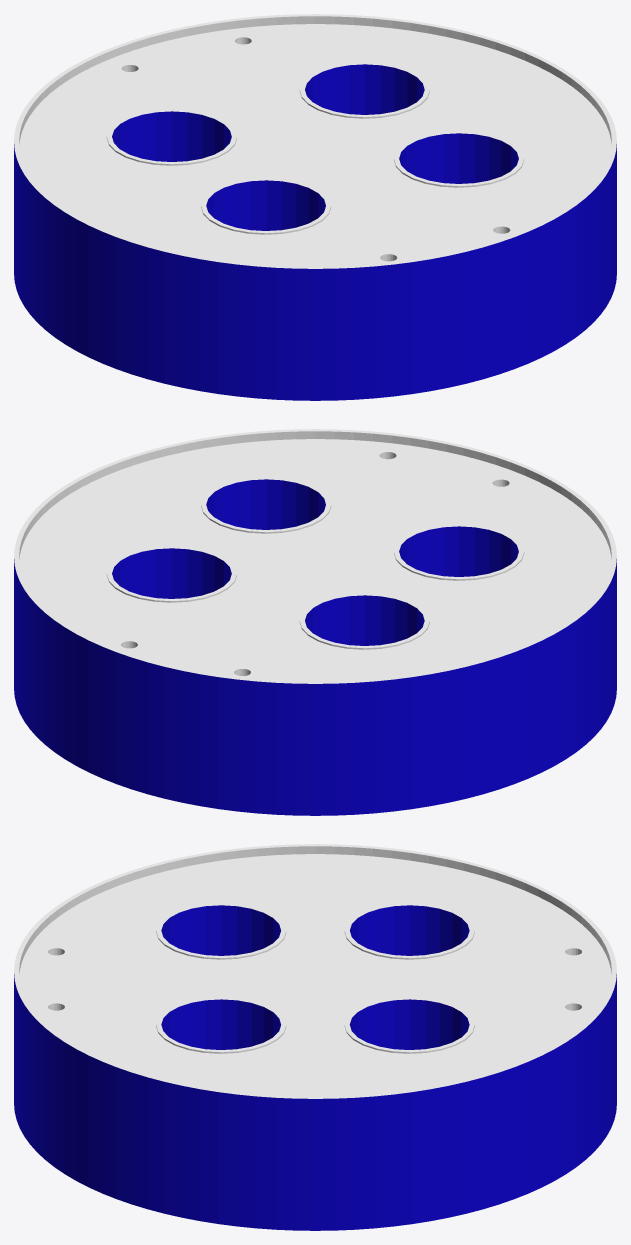
Rendered from TOP_colour_2.dae.
The picture shows the model from 3 angles, top to bottom: view 1: azimuth 30°, elevation 25°; view 2: azimuth 150°, elevation 25°; view 3: azimuth 270°, elevation 25°; orthographic projection.
Visible parts, largest first — view 1: TOP; view 2: TOP; view 3: TOP.
Boxes of the visible parts, x1=… form: TOP: x1=14, y1=14, x2=616, y2=400; TOP: x1=14, y1=429, x2=616, y2=815; TOP: x1=14, y1=844, x2=616, y2=1230.
Bounding box in the file's own units: 0.352 × 0.352 × 0.085.
